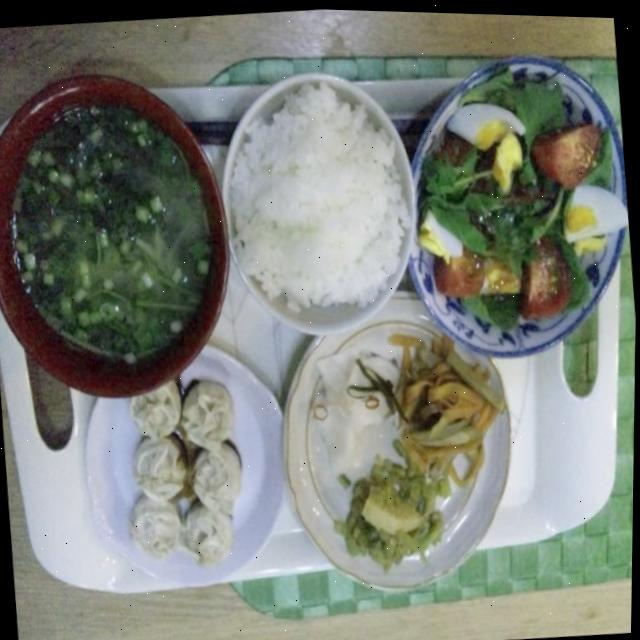带馅早点: (71, 308, 297, 606)
汤锅炖物: (0, 65, 248, 406)
米饭主食: (212, 48, 442, 344)
蔬菜料理: (384, 12, 640, 359)
